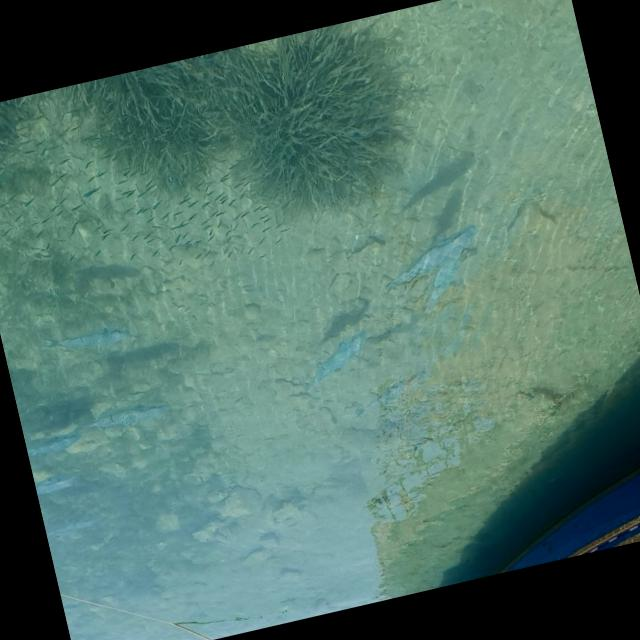Balon Baligi: (374, 223, 484, 293), (294, 334, 368, 392), (412, 250, 472, 316), (76, 398, 172, 434), (40, 319, 128, 357), (348, 378, 409, 418), (25, 428, 82, 458), (42, 512, 100, 540), (32, 470, 76, 494)
